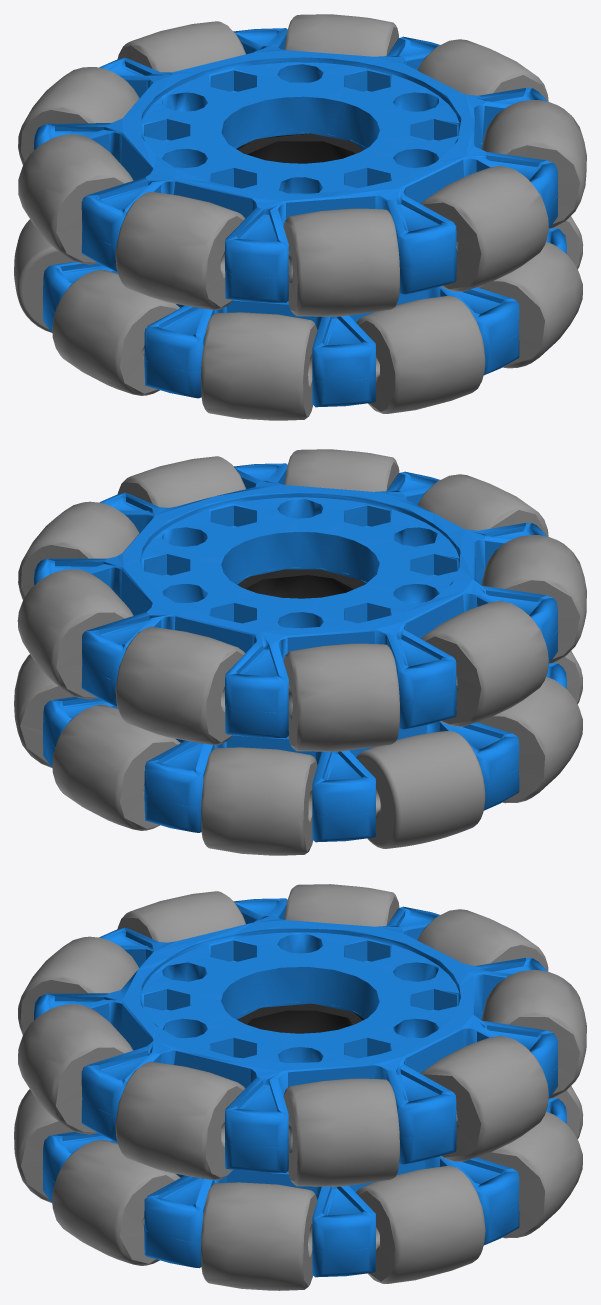
The model's file is omni_wheel_v2.dae.
3 views of the same model, one above another, from view 1: azimuth 30°, elevation 25°; view 2: azimuth 150°, elevation 25°; view 3: azimuth 270°, elevation 25° (orthographic).
Parts seen in each view (by area): view 1: Omni WheelV2; view 2: Omni WheelV2; view 3: Omni WheelV2.
Boxes of the visible parts, x1,y1,x2,y2 form: Omni WheelV2: [14, 14, 586, 420]; Omni WheelV2: [14, 449, 586, 855]; Omni WheelV2: [14, 884, 586, 1290].
Bounding box in the file's own units: 0.1023 × 0.1019 × 0.0394.
